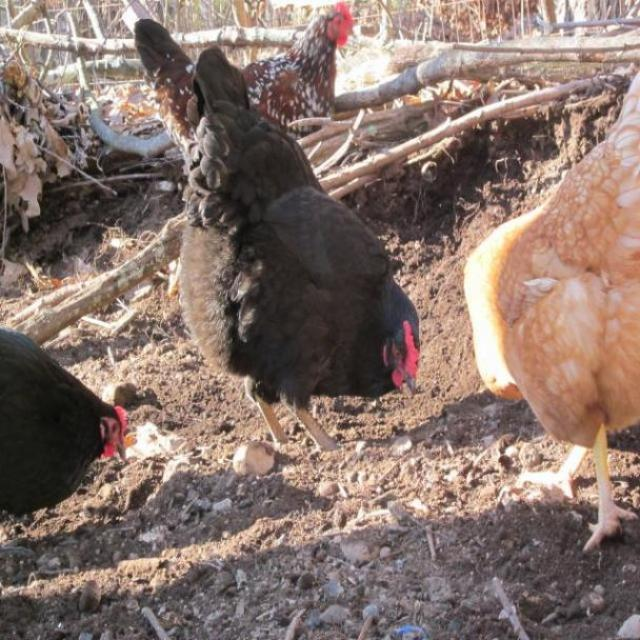Chicken: (155, 49, 416, 448), (463, 76, 639, 536), (3, 326, 126, 520), (245, 1, 356, 140)
